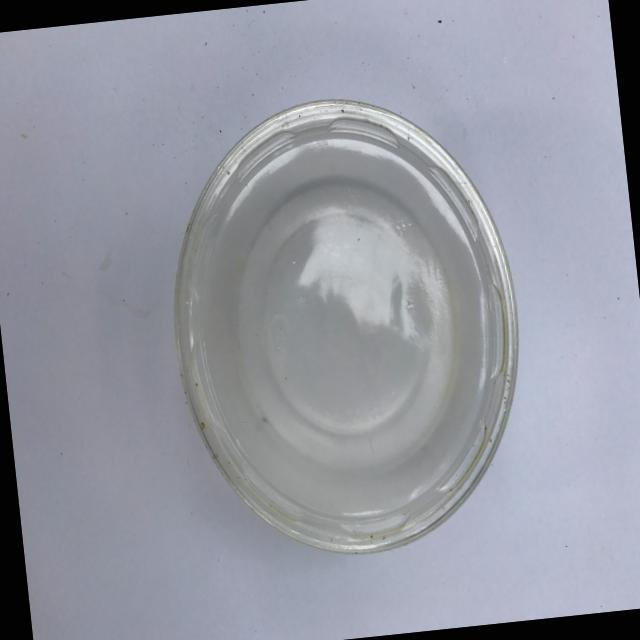Plastic: (130, 73, 550, 580)
